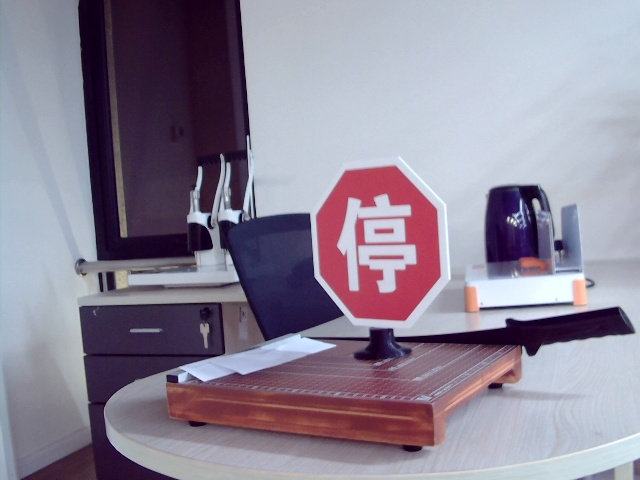stop: (339, 194, 418, 296)
